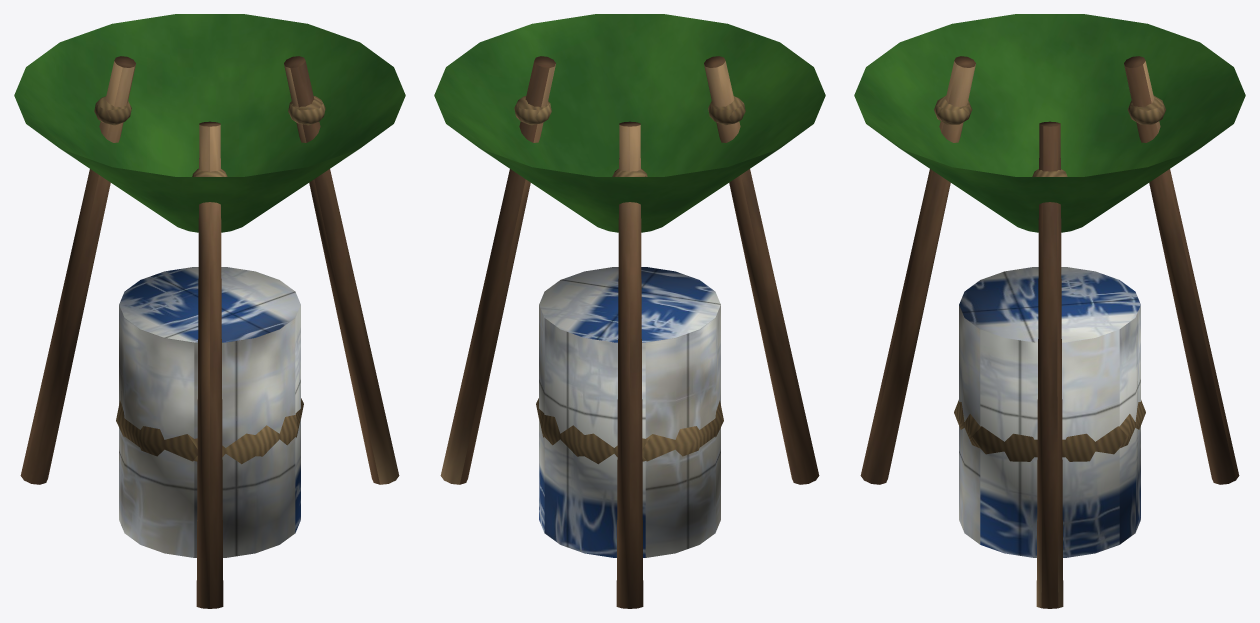
File: rain_catcher.glb
3 views of the same model, side by side, from view 1: azimuth 30°, elevation 25°; view 2: azimuth 150°, elevation 25°; view 3: azimuth 270°, elevation 25° (orthographic).
Parts seen in each view (by area): view 1: Rain_Catcher; view 2: Rain_Catcher; view 3: Rain_Catcher.
Part boxes in pixels (<box>): Rain_Catcher: <box>14,14,405,608</box>; Rain_Catcher: <box>434,14,825,608</box>; Rain_Catcher: <box>854,14,1245,608</box>.
Size of what is drawn, in the model's own units: 1.17 by 1.4 by 1.12.
Materials: 4 (4 with a texture image).
